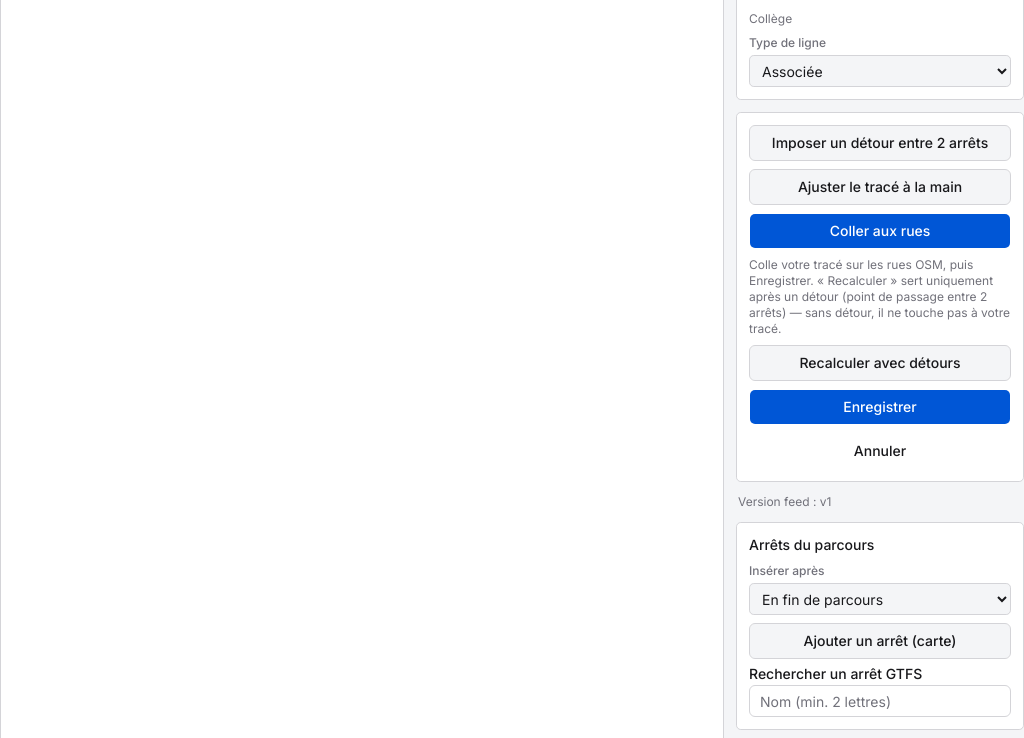
MapEditor — brouillon local › ajoute un arrêt GTFS depuis la recherche
Step 1. Type "coll" into the field labelled "Rechercher un arrêt GTFS" → coordinates (880, 701), box [749,685,1011,717]
(page scrolled)
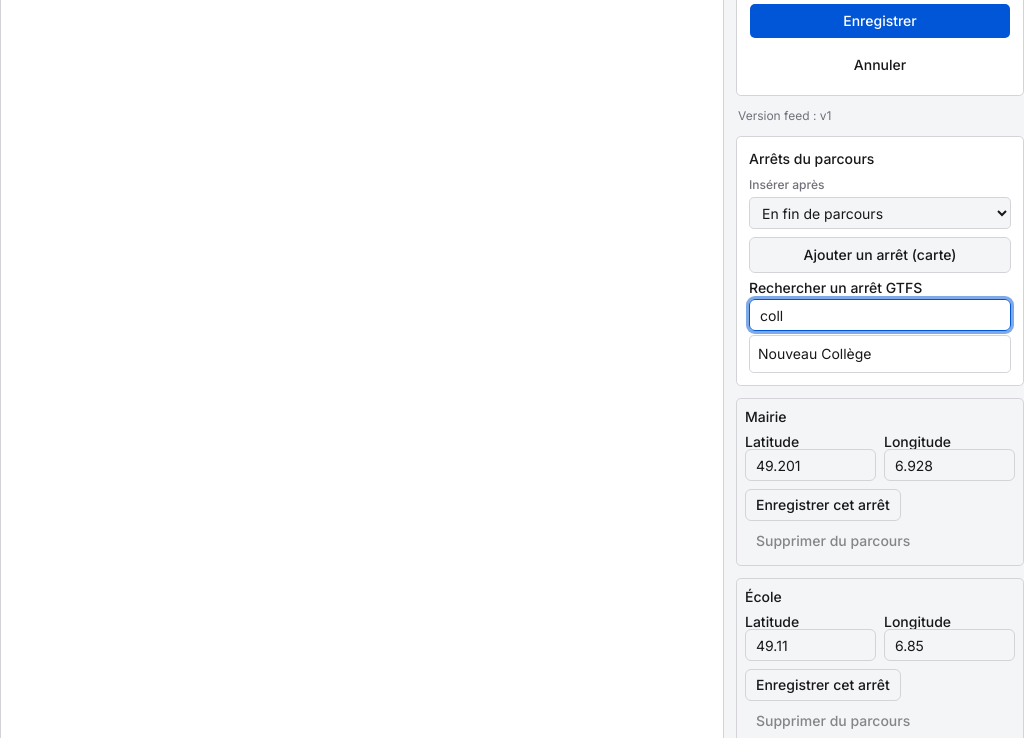
Step 2. Click the button "Nouveau Collège" → coordinates (815, 354), box [750,336,1010,372]
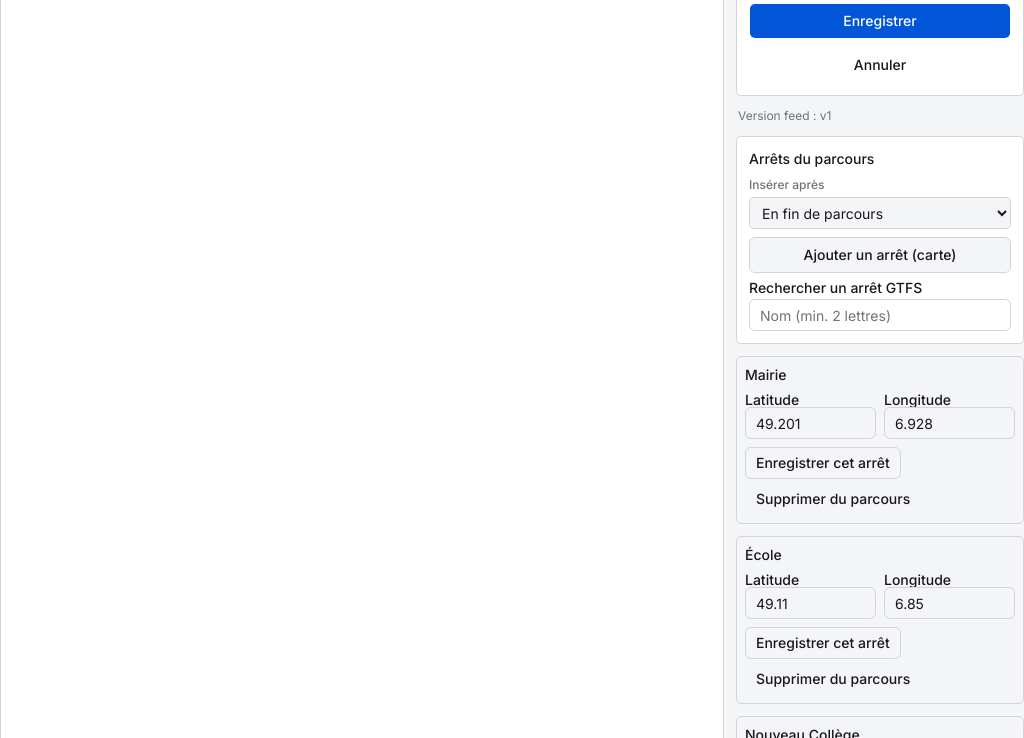
Expected: the number of number fields labelled "Latitude" is 3
